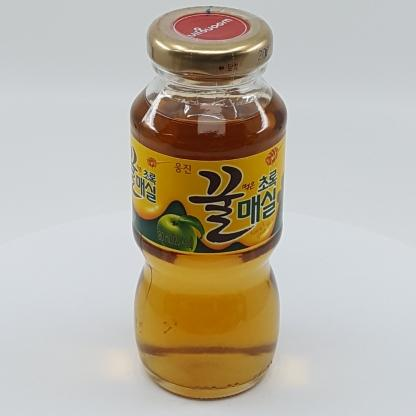-------180ML: (130, 6, 287, 399)
